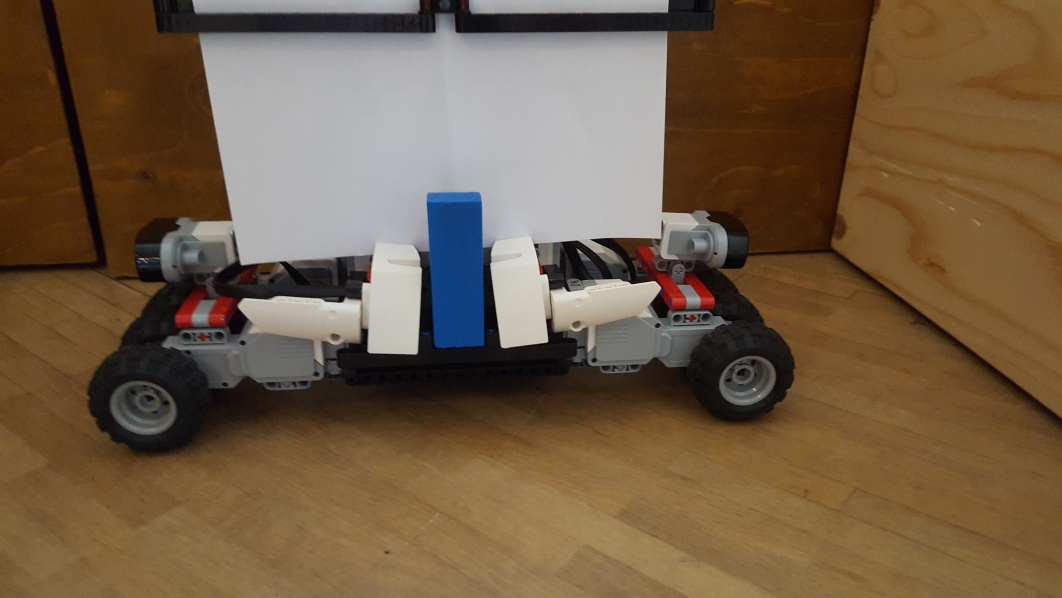car: (86, 5, 795, 424)
